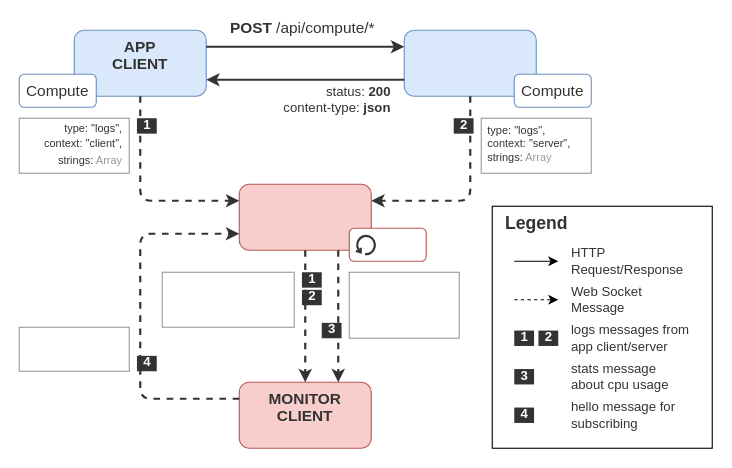
The diagram is 732 pixels wide and 468 high, and some of its shapes have lost their labels. The shapes that lost their labels are listed below. From the top down, each one's box as (x1, y1, x2, y2) in pixels, then its label:
(403, 29, 536, 96): APP SERVER (3000)
(238, 183, 371, 250): MONITOR SERVER (3001)
(348, 227, 426, 261): Stats
(161, 271, 294, 327): type: "logs", context: "client/server", strings: Array
(348, 271, 459, 338): type: "stats", stats: { cpus: Array , cores: number }
(18, 326, 129, 371): type: "hello", purpose: "consume"
